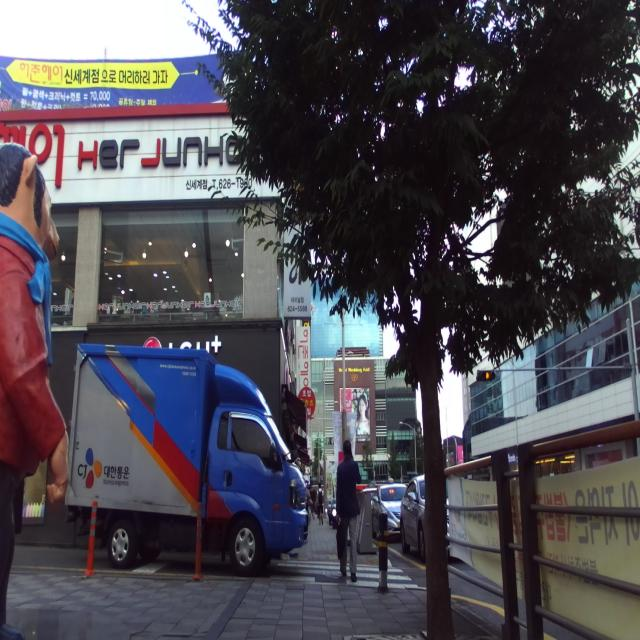횡단보도: (269, 560, 419, 590)
